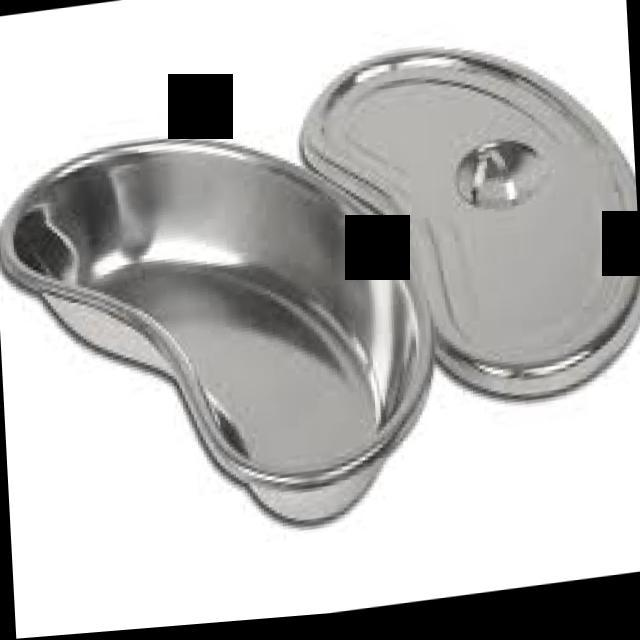Kidney Tray: (0, 95, 437, 570), (312, 14, 640, 440)
